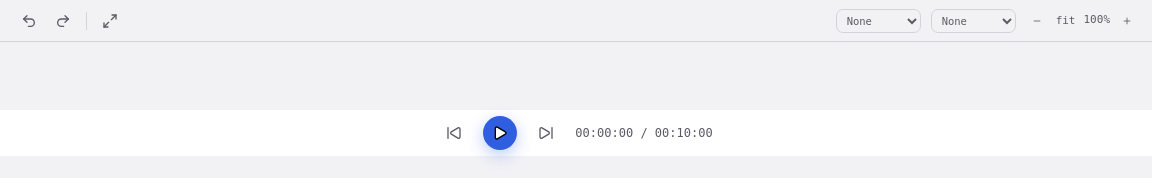
Test: CanvasStage — the toolbar › returns to a hundred percent from either fit control
Click the button titled "Zoom in".
click(1127, 20)  # box [1116,10,1138,32]
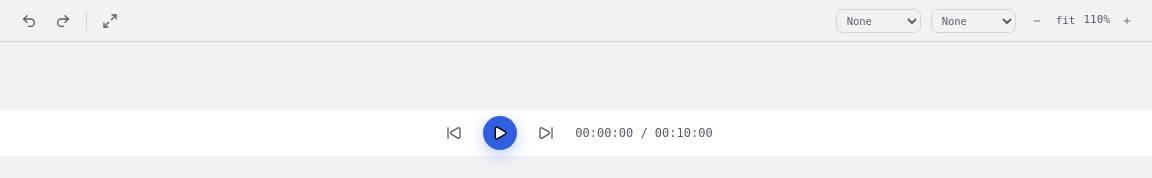
Click the button "fit".
click(1066, 20)  # box [1054,14,1078,27]
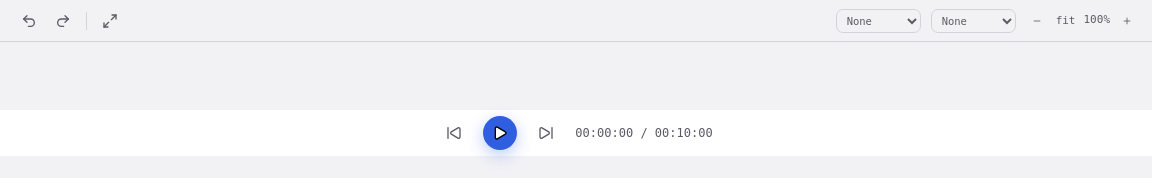
Expected: the text "100%" is shown, [1084,12,1110,29]
Click the button titled "Zoom in".
click(1127, 20)  # box [1116,10,1138,32]
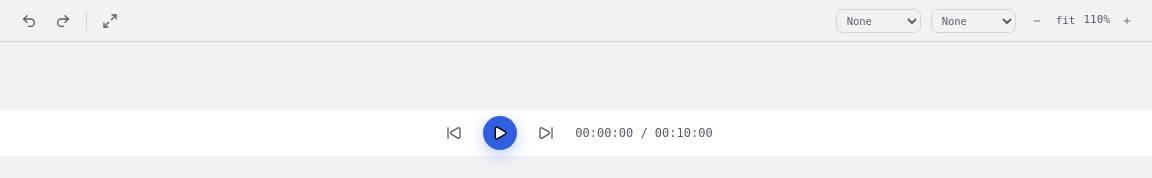
Click the button titled "Fit (100%)".
click(110, 20)  # box [95,6,125,36]
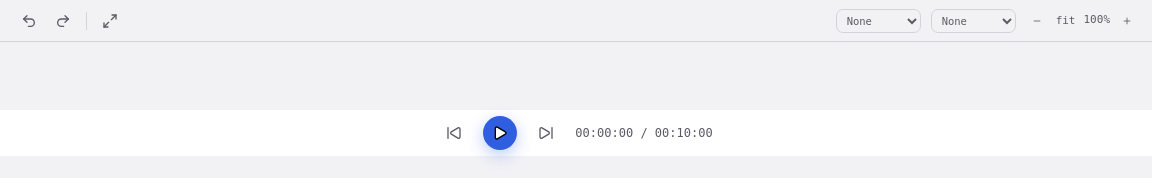
Expected: the text "100%" is shown, [1084,12,1110,29]
